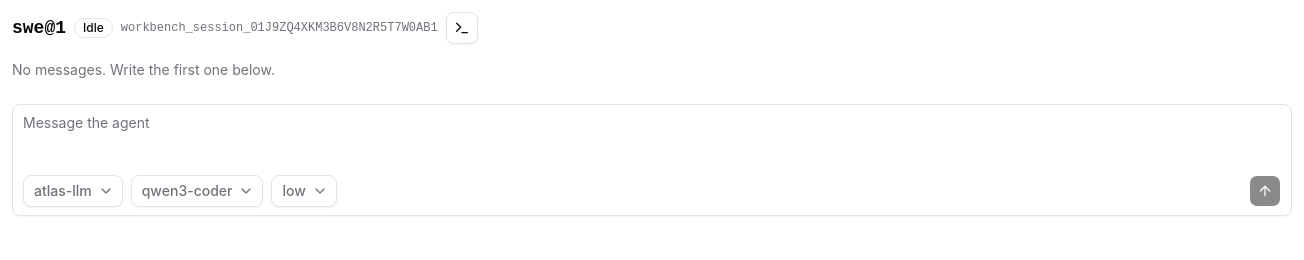
Test: Composer › configures the whole session when the reasoning effort changes
Click the dropdown named "Reasoning Effort" at (304, 191), box [272,175,337,207]
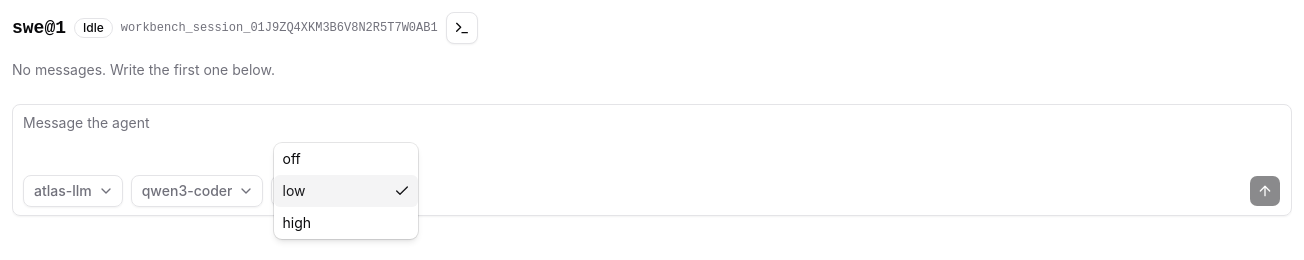
Click the option "high" at (297, 222), box [282,214,311,231]
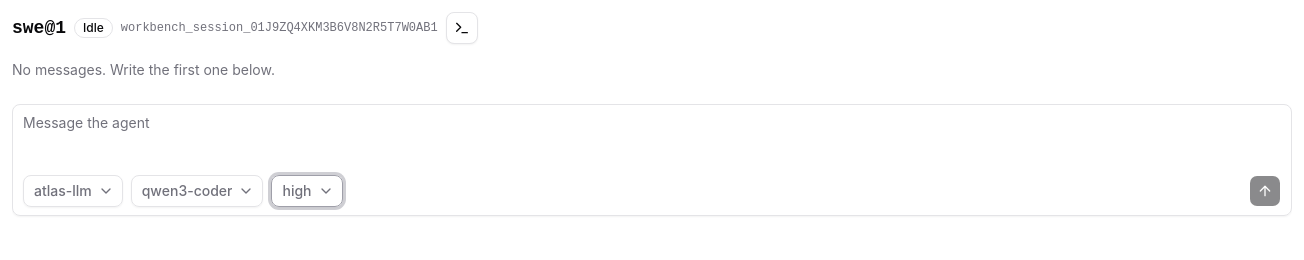
Expected: the dropdown named "Reasoning Effort" shows "high", [272,175,342,207]
